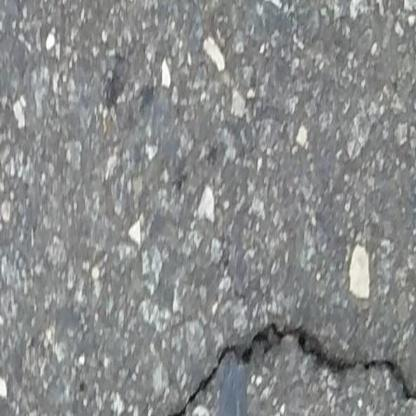Cracks: (132, 319, 416, 416)
